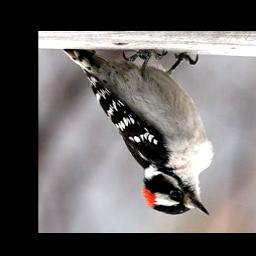Woodpecker: (65, 47, 216, 216)
